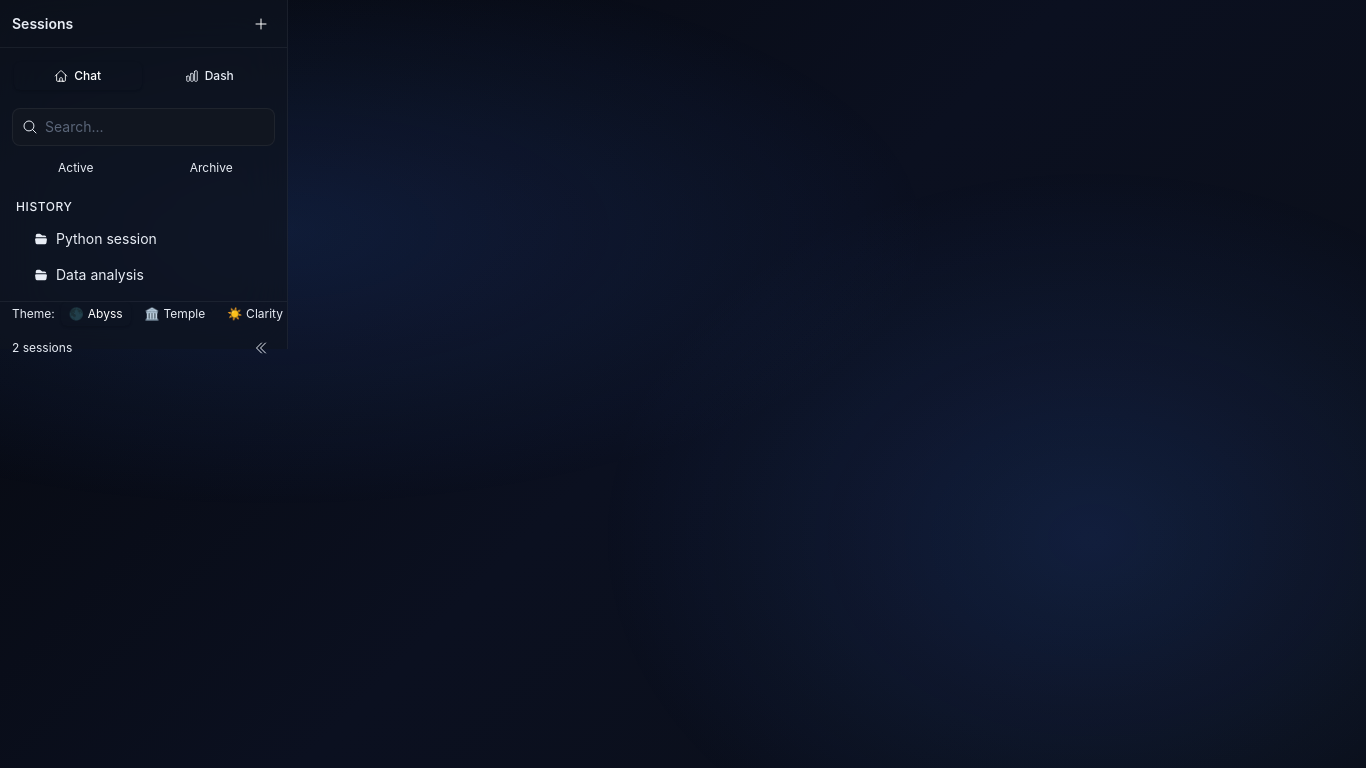
Scenario: Sidebar › search › clears search when input is cleared
Expected: the text "Python session" is shown, x1=56 y1=230 x2=157 y2=247
In the field with placeholder "Search...": {"x": 144, "y": 127} x1=12 y1=108 x2=275 y2=146, type "python"
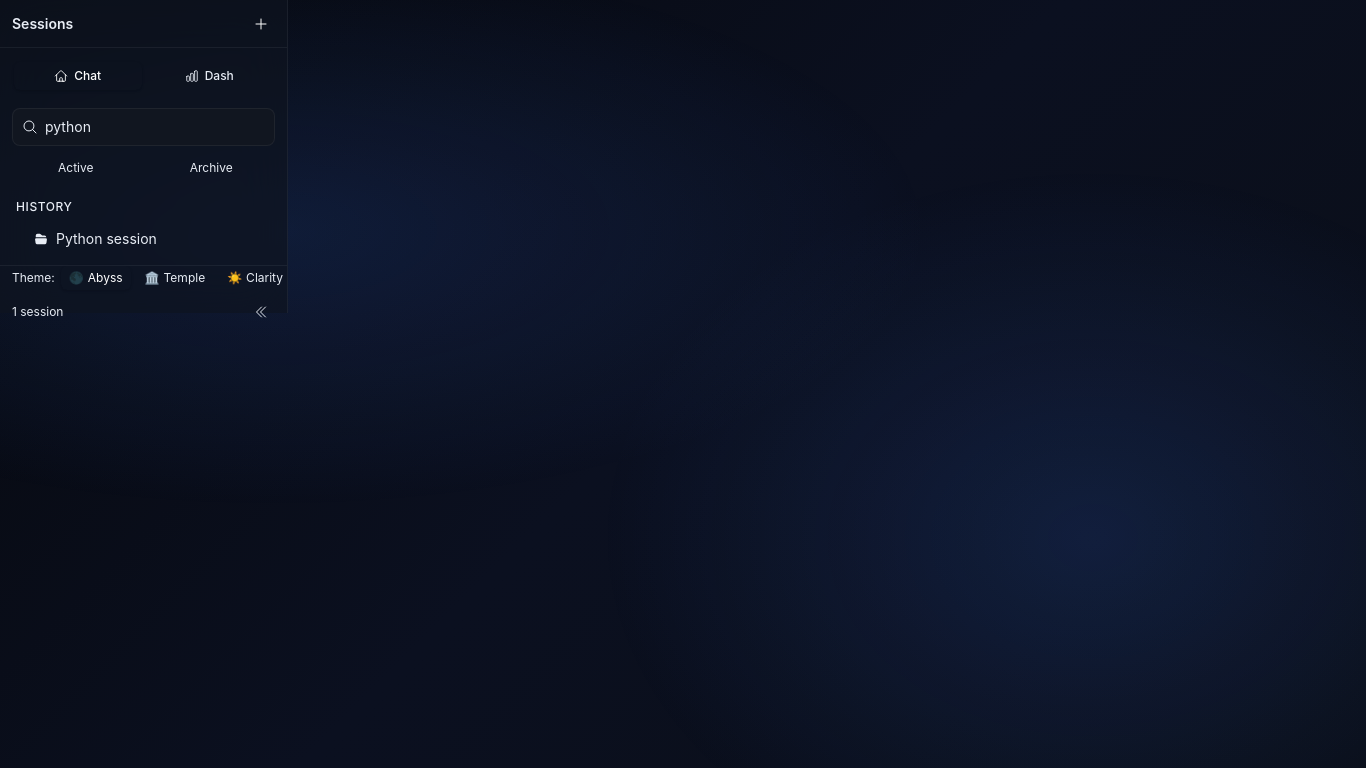
Expected: the text "Data analysis" is gone
Clear the field with placeholder "Search...": {"x": 144, "y": 127} x1=12 y1=108 x2=275 y2=146
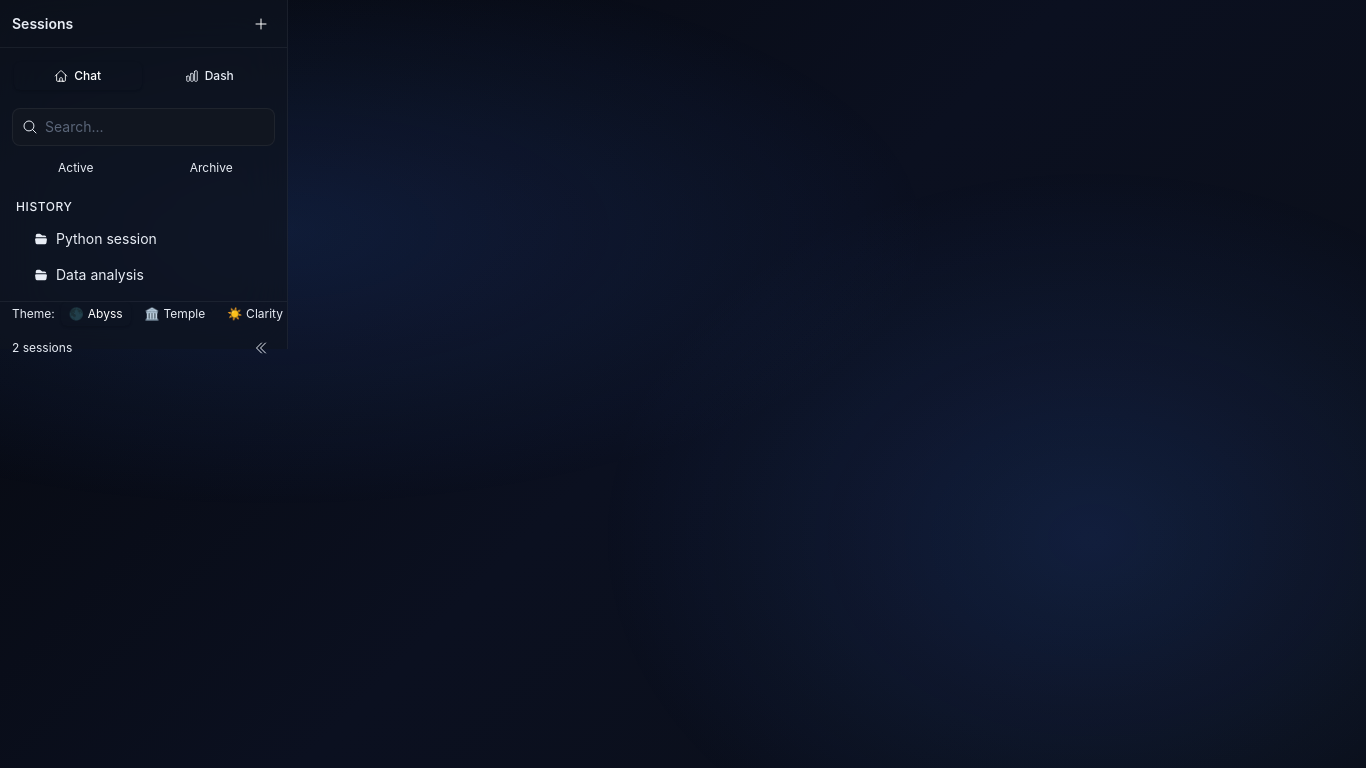
Expected: the text "Data analysis" is shown, x1=56 y1=266 x2=144 y2=283
